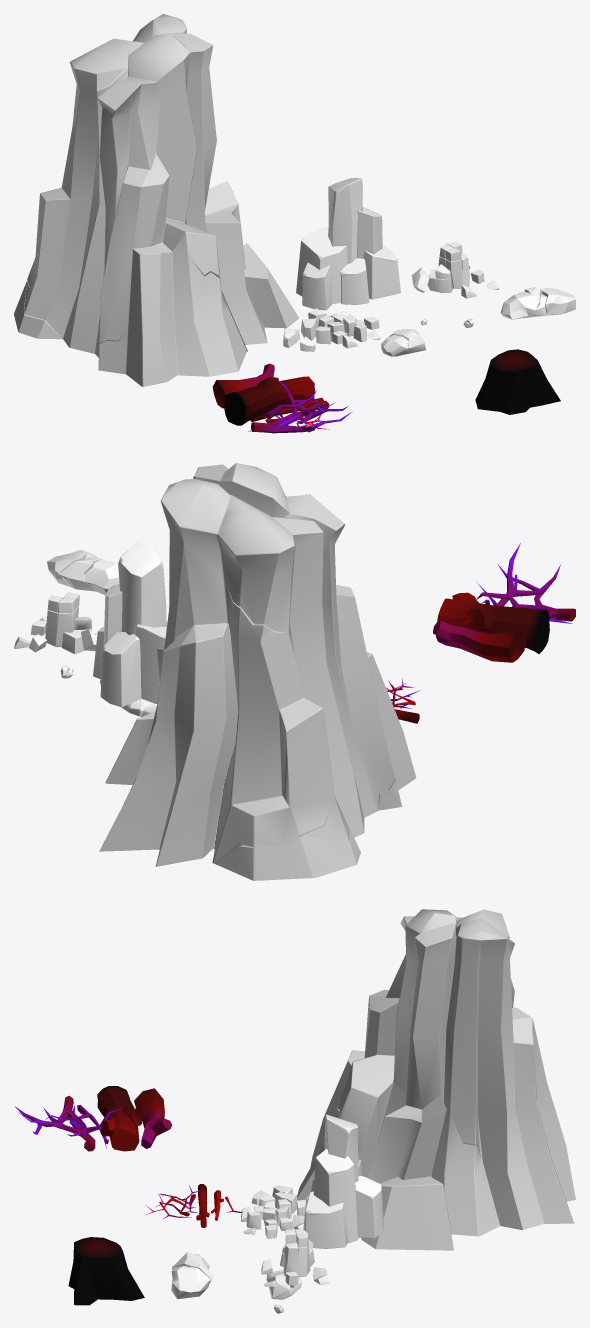
3 views of the same model, one above another, from view 1: azimuth 30°, elevation 25°; view 2: azimuth 150°, elevation 25°; view 3: azimuth 270°, elevation 25° (orthographic). The views are drawn at different scales.
Visible parts, largest first — view 1: PT_Cliff_Rock_03_LOD0, PT_Construction_Rock_05_LOD0, PT_Generic_Tree_04_logs__1_, PT_Oak_Tree_01_stump, PT_Construction_Rock_02_split_LOD0, PT_Construction_Rock_02_cracked_LOD0, PT_Generic_Rock_08_LOD0, PT_Generic_Rock_07_LOD0; view 2: PT_Cliff_Rock_03_LOD0, PT_Construction_Rock_05_LOD0, PT_Generic_Tree_04_logs__1_, PT_Construction_Rock_02_cracked_LOD0, PT_Generic_Rock_08_LOD0, PT_Birch_Tree_02_logs; view 3: PT_Cliff_Rock_03_LOD0, PT_Construction_Rock_05_LOD0, PT_Generic_Tree_04_logs__1_, PT_Oak_Tree_01_stump, PT_Construction_Rock_02_split_LOD0, PT_Construction_Rock_02_cracked_LOD0, PT_Generic_Rock_08_LOD0, PT_Birch_Tree_02_logs, PT_Generic_Rock_07_LOD0.
Part boxes in pixels (bbox=[...]): PT_Cliff_Rock_03_LOD0: bbox=[14, 14, 299, 386]; PT_Construction_Rock_05_LOD0: bbox=[296, 178, 400, 310]; PT_Generic_Tree_04_logs__1_: bbox=[212, 363, 352, 433]; PT_Oak_Tree_01_stump: bbox=[475, 349, 560, 414]; PT_Construction_Rock_02_split_LOD0: bbox=[283, 308, 380, 351]; PT_Construction_Rock_02_cracked_LOD0: bbox=[411, 242, 499, 298]; PT_Generic_Rock_08_LOD0: bbox=[500, 287, 575, 319]; PT_Generic_Rock_07_LOD0: bbox=[381, 329, 425, 356]; PT_Cliff_Rock_03_LOD0: bbox=[99, 463, 416, 880]; PT_Construction_Rock_05_LOD0: bbox=[93, 541, 167, 707]; PT_Generic_Tree_04_logs__1_: bbox=[433, 543, 575, 662]; PT_Construction_Rock_02_cracked_LOD0: bbox=[14, 592, 97, 654]; PT_Generic_Rock_08_LOD0: bbox=[47, 549, 119, 594]; PT_Birch_Tree_02_logs: bbox=[386, 678, 420, 723]; PT_Cliff_Rock_03_LOD0: bbox=[297, 909, 575, 1250]; PT_Construction_Rock_05_LOD0: bbox=[303, 1114, 383, 1248]; PT_Generic_Tree_04_logs__1_: bbox=[15, 1086, 172, 1151]; PT_Oak_Tree_01_stump: bbox=[68, 1237, 144, 1305]; PT_Construction_Rock_02_split_LOD0: bbox=[241, 1185, 305, 1238]; PT_Construction_Rock_02_cracked_LOD0: bbox=[261, 1229, 329, 1287]; PT_Generic_Rock_08_LOD0: bbox=[171, 1252, 212, 1299]; PT_Birch_Tree_02_logs: bbox=[145, 1184, 241, 1227]; PT_Generic_Rock_07_LOD0: bbox=[266, 1270, 301, 1299].
Size of what is drawn, in the model's own units: 1747 by 1226 by 2074.
